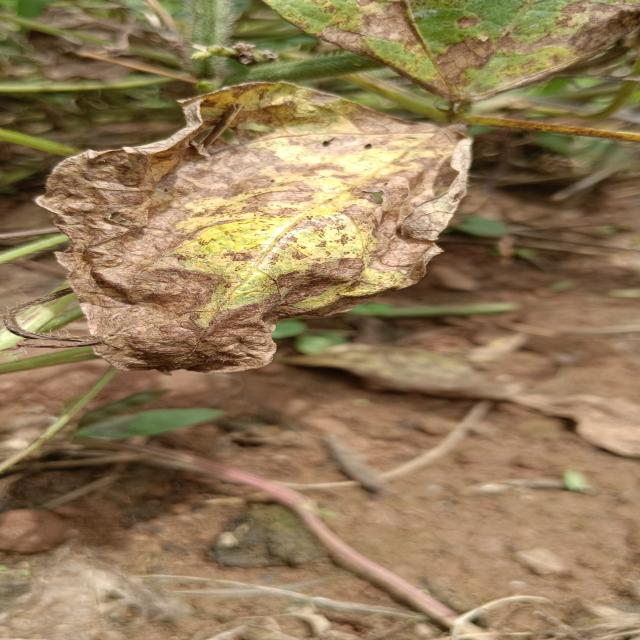Black gram_leaf spot: (32, 74, 481, 382), (258, 0, 640, 140)
